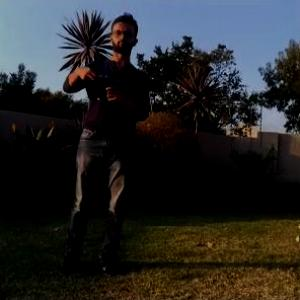follow: (52, 2, 152, 279)
